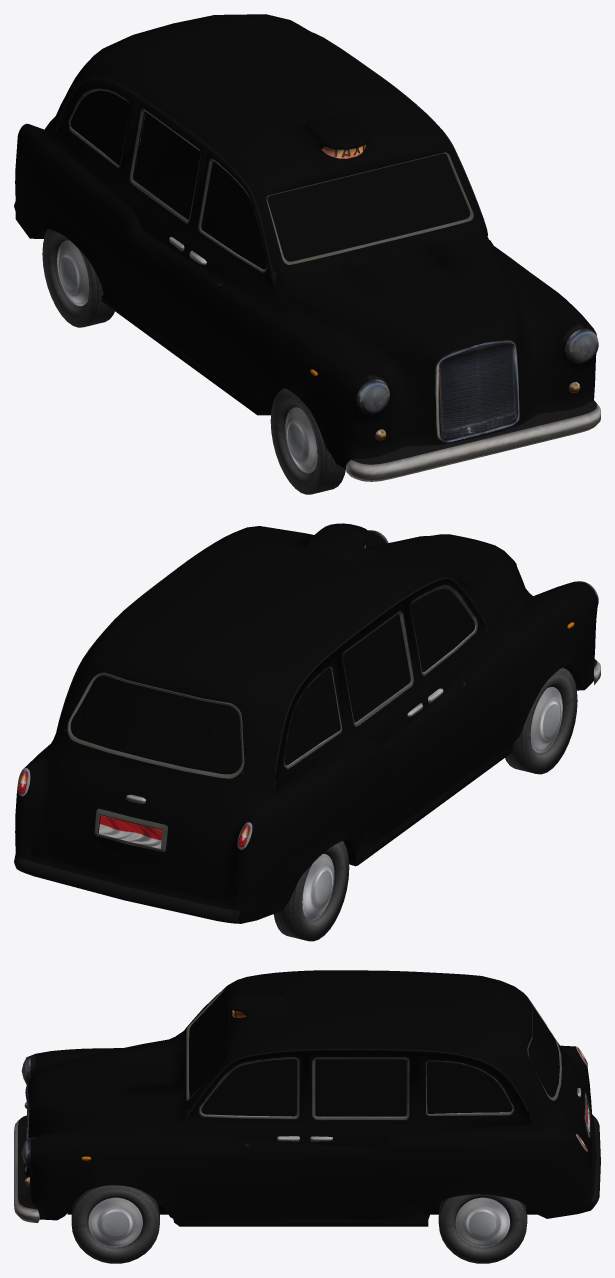
Rendered from London_Cab.obj.
3 renders of one model, top to bottom at view 1: azimuth 30°, elevation 25°; view 2: azimuth 150°, elevation 25°; view 3: azimuth 270°, elevation 25°, orthographic. The views are drawn at different scales.
Visible parts, largest first — view 1: LondonCab, LondonCabGlass, LondonCabWheel, LondonCabRim; view 2: LondonCab, LondonCabGlass, LondonCabWheel, LondonCabRim, LondonCabLicensePlate; view 3: LondonCab, LondonCabGlass, LondonCabWheel, LondonCabRim.
Boxes of the visible parts, x1,y1,x2,y2 form: LondonCab: (14, 14, 600, 481); LondonCabGlass: (70, 90, 469, 269); LondonCabWheel: (42, 229, 345, 494); LondonCabRim: (57, 240, 317, 472); LondonCab: (14, 523, 600, 923); LondonCabGlass: (70, 588, 474, 774); LondonCabWheel: (273, 667, 577, 941); LondonCabRim: (302, 687, 562, 919); LondonCabLicensePlate: (98, 815, 162, 848); LondonCab: (14, 970, 600, 1226); LondonCabGlass: (189, 991, 559, 1116); LondonCabWheel: (71, 1185, 527, 1263); LondonCabRim: (88, 1197, 509, 1246).
Size of the model in its own units: 4.41 by 4.23 by 10.44.
6 materials, 6 textured.
